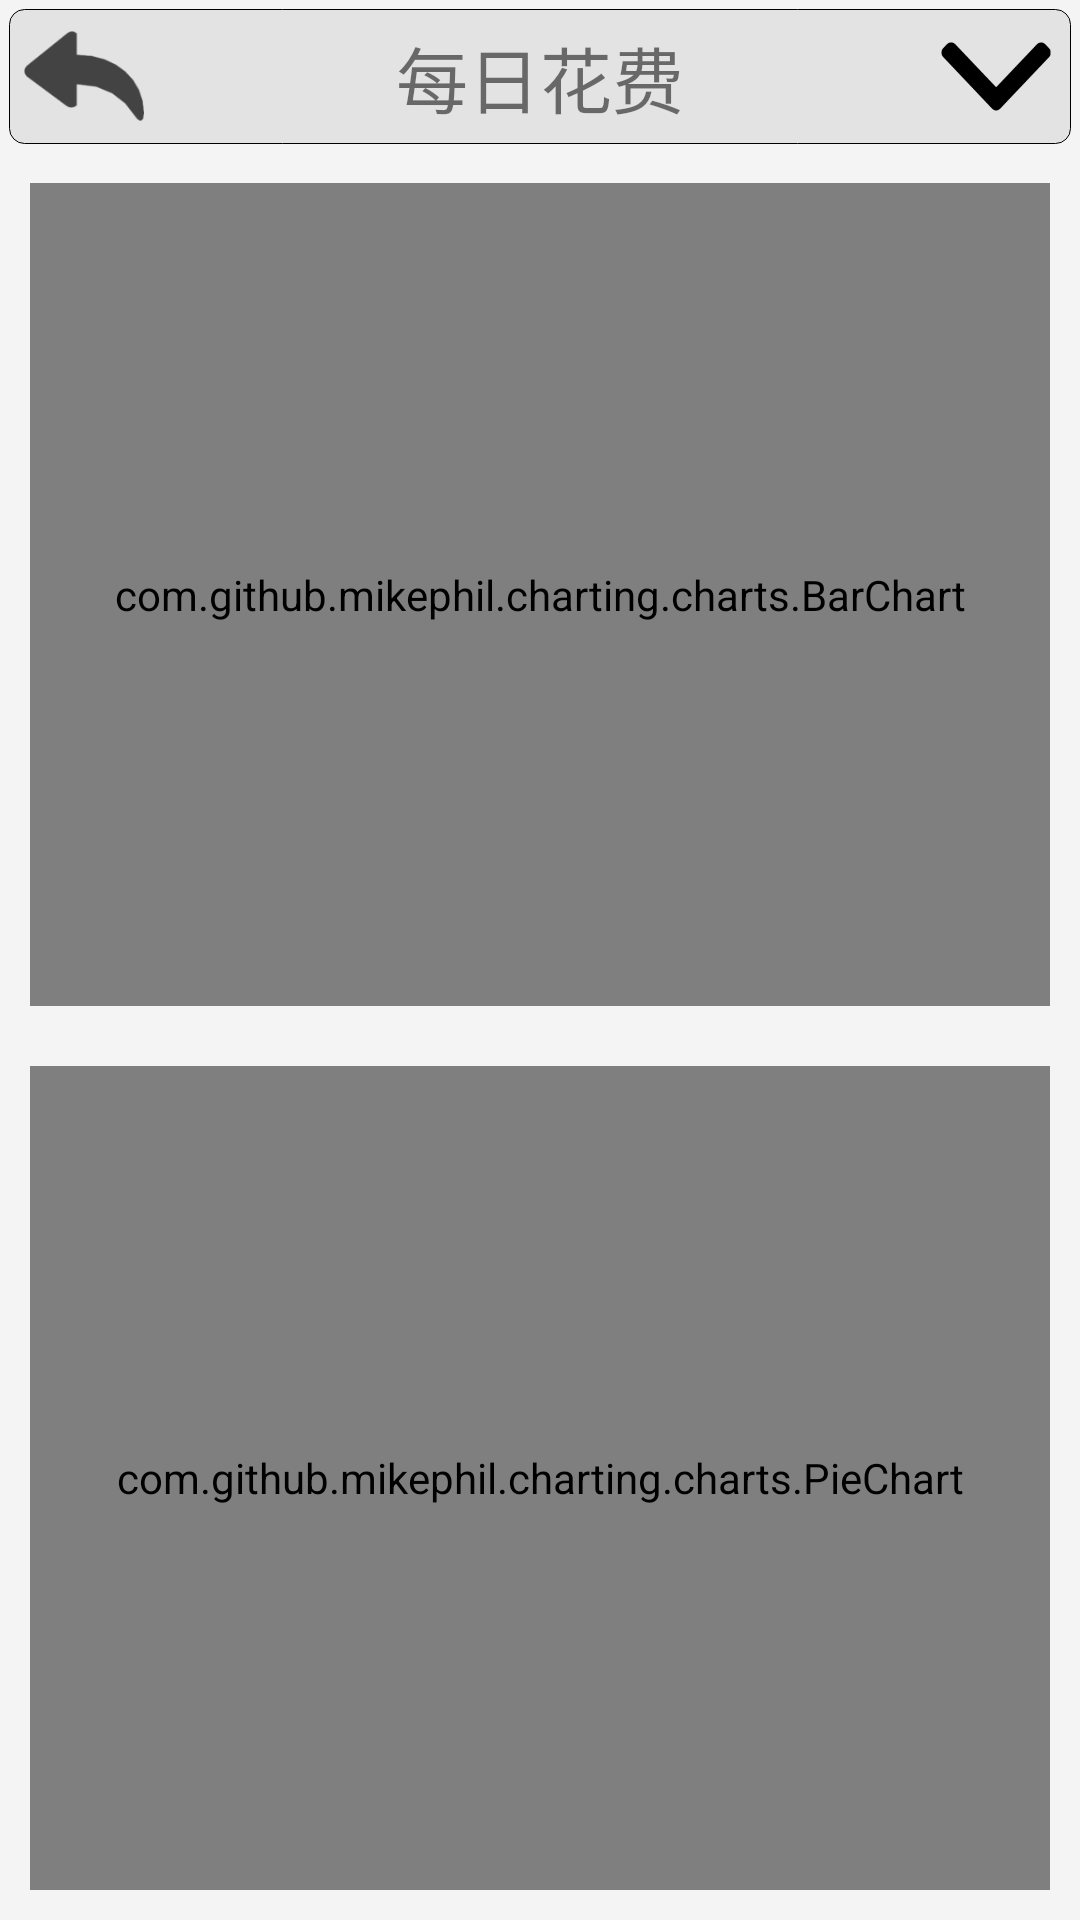

Screen size 1080x1920. Icon name, then its center in pixels as point (x, y):
backward: point (84, 76)
down: point (996, 76)
